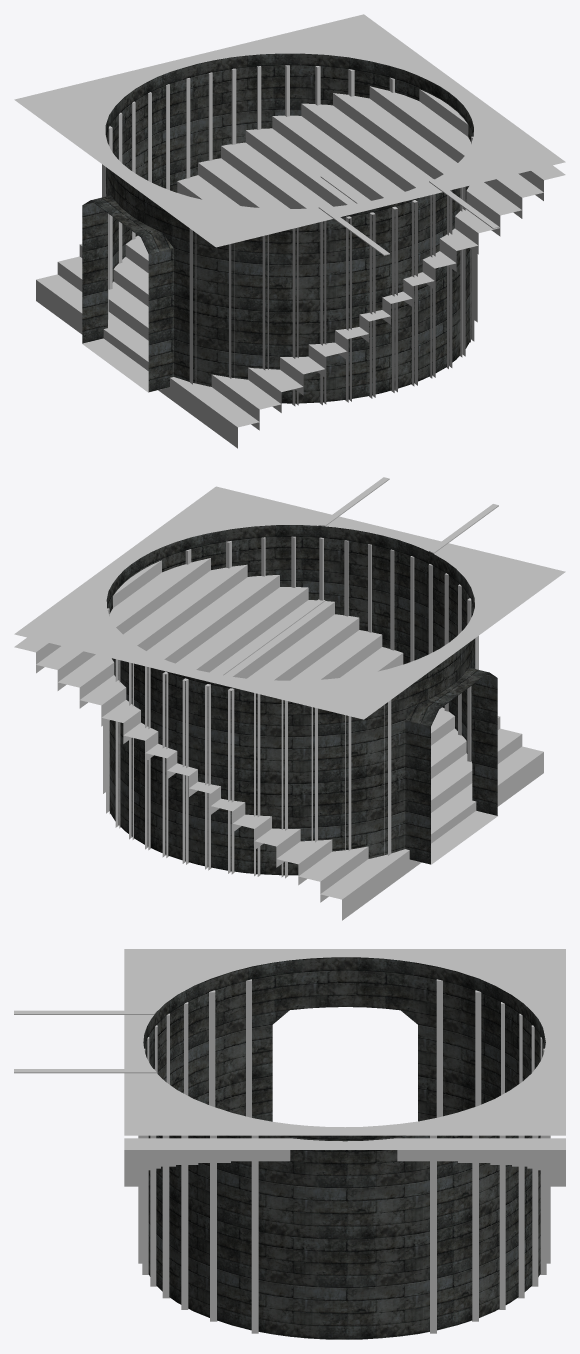
Rendered from altar_stairs.DAE.
3 renders of one model, top to bottom at view 1: azimuth 30°, elevation 25°; view 2: azimuth 150°, elevation 25°; view 3: azimuth 270°, elevation 25°, orthographic. The views are drawn at different scales.
Parts seen in each view (by area): view 1: Plane003, Plane002, Object580, Box039; view 2: Plane003, Plane002, Object580, Box039; view 3: Plane003, Plane002, Box039, Object580.
Part boxes in pixels (x1=…): Plane003: x1=82, y1=53, x2=473, y2=403; Plane002: x1=14, y1=14, x2=565, y2=427; Object580: x1=36, y1=86, x2=543, y2=448; Box039: x1=102, y1=65, x2=477, y2=406; Plane003: x1=106, y1=525, x2=497, y2=875; Plane002: x1=14, y1=477, x2=565, y2=899; Object580: x1=36, y1=558, x2=543, y2=920; Box039: x1=103, y1=536, x2=478, y2=878; Plane003: x1=143, y1=957, x2=545, y2=1339; Plane002: x1=14, y1=949, x2=565, y2=1149; Box039: x1=138, y1=979, x2=550, y2=1333; Object580: x1=124, y1=1150, x2=565, y2=1186.
Size of the model in its own units: 8 by 10 by 4.53.
